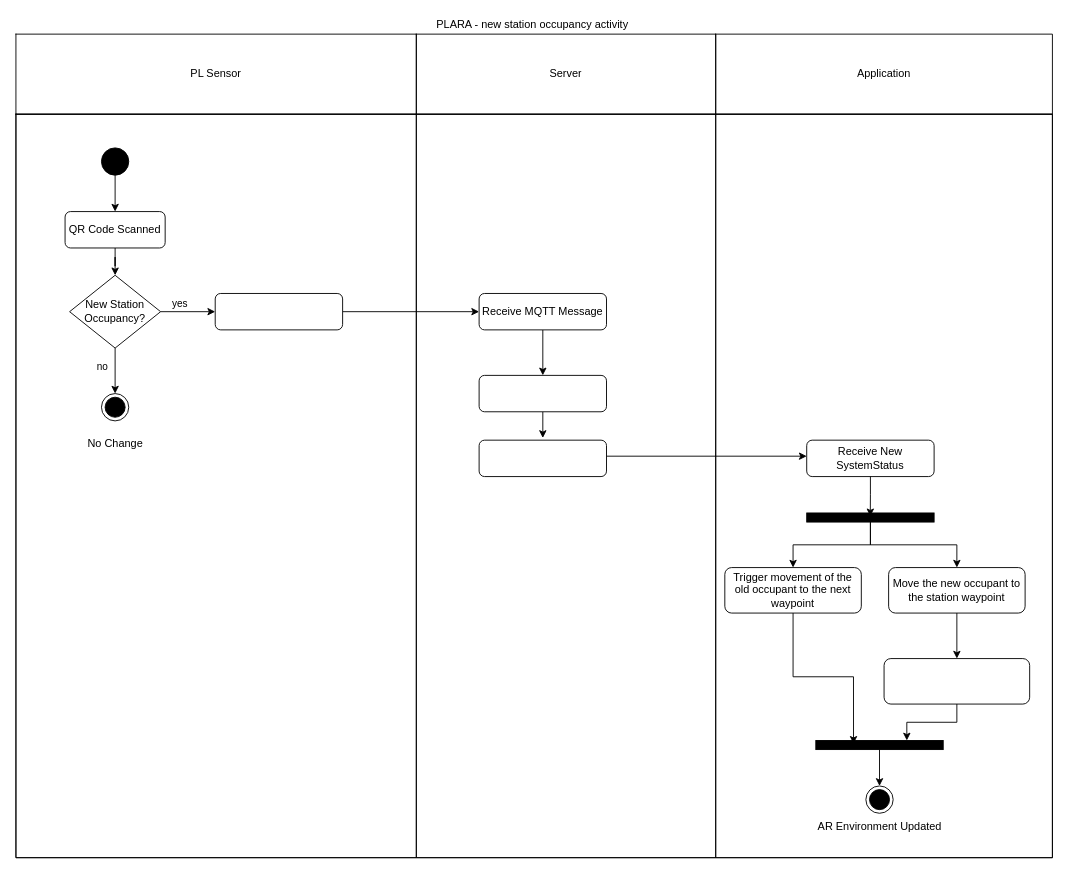
Image size: 1068x874. Some labels were removed from this diagram. The centre of each missing label's shape, as x and y in pixels:
"Display message that the cart has arrived at the station" belongs at pixel 956 681.
"Publish MQTT Message with new status" belongs at pixel 278 311.
"Publish New SystemStatus" belongs at pixel 542 458.
"Update SystemStatus" belongs at pixel 542 393.
